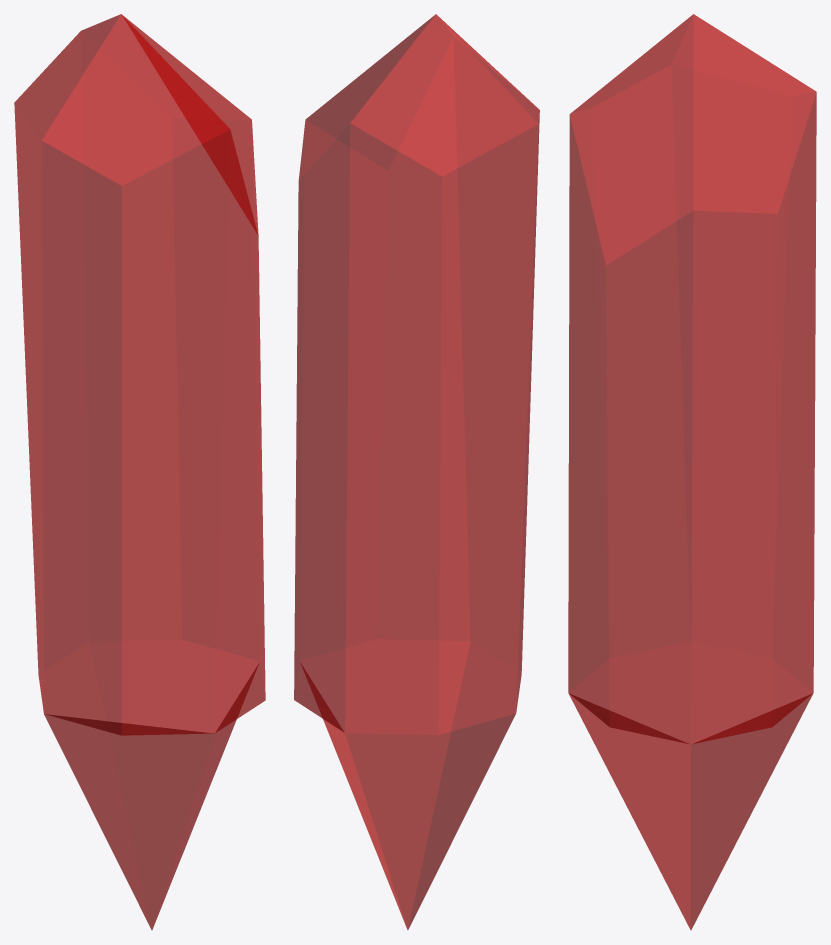
Rendered from CrystalShard1.fbx.
3 renders of one model, left to right at view 1: azimuth 30°, elevation 25°; view 2: azimuth 150°, elevation 25°; view 3: azimuth 270°, elevation 25°, orthographic. The views are drawn at different scales.
Parts seen in each view (by area): view 1: CrystalShard1; view 2: CrystalShard1; view 3: CrystalShard1.
Part boxes in pixels (box(x1,y1,x2,y2)): CrystalShard1: box(14, 14, 265, 930); CrystalShard1: box(294, 14, 539, 930); CrystalShard1: box(568, 14, 816, 930).
Size of the model in its own units: 0.1076 by 0.4157 by 0.1036.
